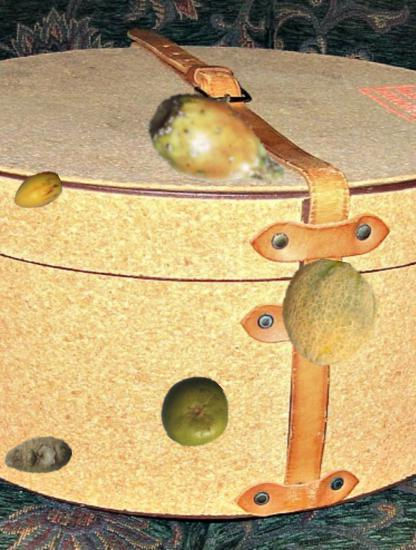Cactus: (145, 70, 293, 218)
Cantaloupe: (276, 260, 384, 368)
Ginger: (4, 422, 72, 490)
Pepino: (11, 165, 64, 218)
Pomelo: (159, 376, 232, 449)
